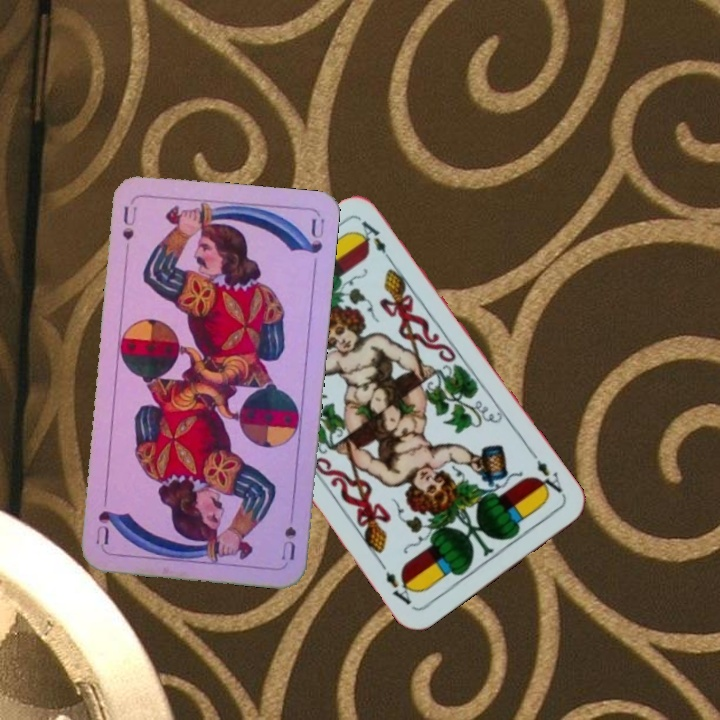EA: (530, 455, 567, 499)
SU: (118, 202, 140, 243), (277, 522, 298, 563)
